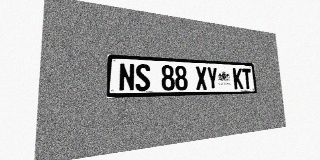8: (161, 65, 175, 91), (175, 65, 188, 90)
K: (233, 68, 243, 89)
N: (119, 63, 135, 91)
S: (135, 64, 150, 91)
T: (242, 68, 252, 89)
X: (195, 66, 208, 90)
Y: (207, 67, 218, 90)
